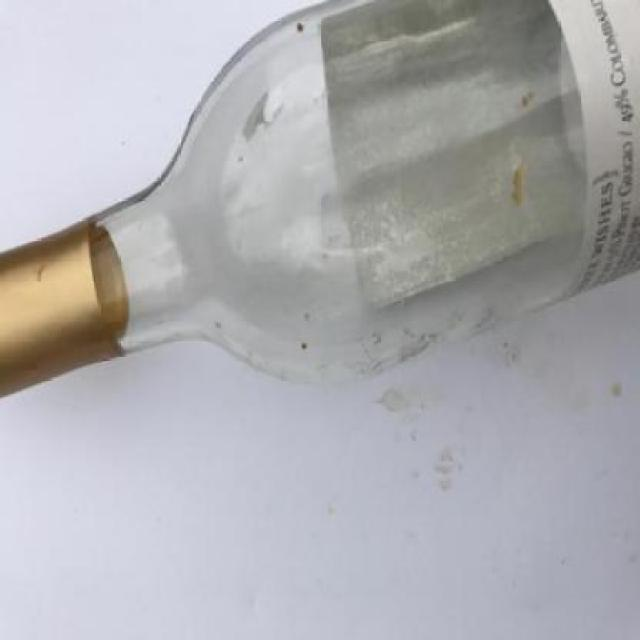kaca: (0, 0, 638, 397)
